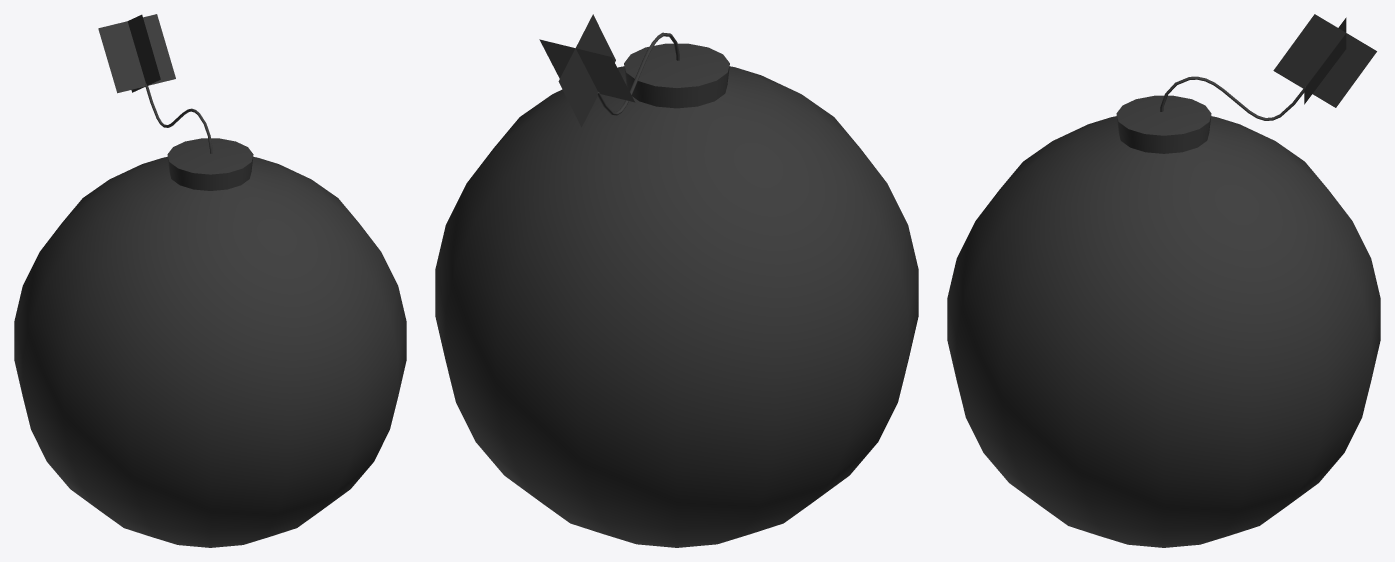
File: Bomb tron.fbx
3 renders of one model, left to right at view 1: azimuth 30°, elevation 25°; view 2: azimuth 150°, elevation 25°; view 3: azimuth 270°, elevation 25°, orthographic. The views are drawn at different scales.
Visible parts, largest first — view 1: Qua_bomb; view 2: Qua_bomb; view 3: Qua_bomb.
Boxes of the visible parts, box(x1,y1,x2,y2) form: Qua_bomb: box(14, 14, 406, 547); Qua_bomb: box(435, 14, 918, 547); Qua_bomb: box(947, 14, 1380, 547).
Bounding box in the file's own units: 98.37 × 129 × 98.91.
Materials: 1 (1 with a texture image).
